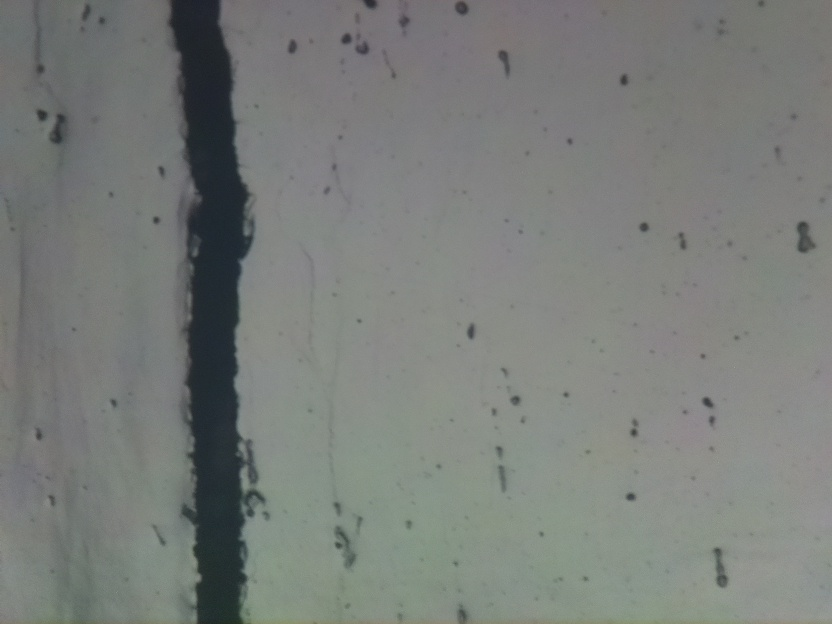crack: (169, 0, 255, 624)
